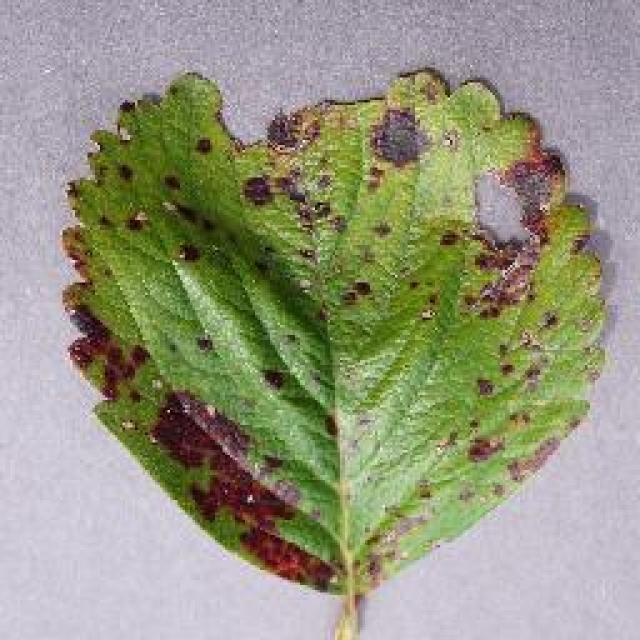Strawberry___Leaf_scorch: (92, 109, 610, 556)
